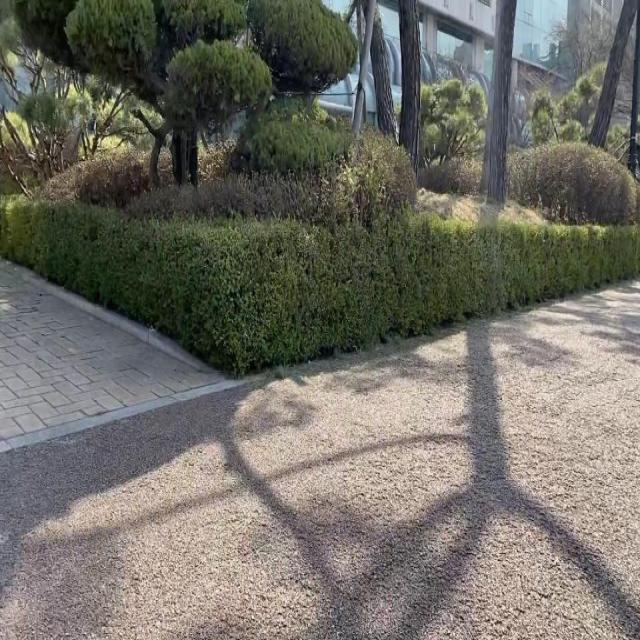sidewalk: (0, 277, 640, 638)
